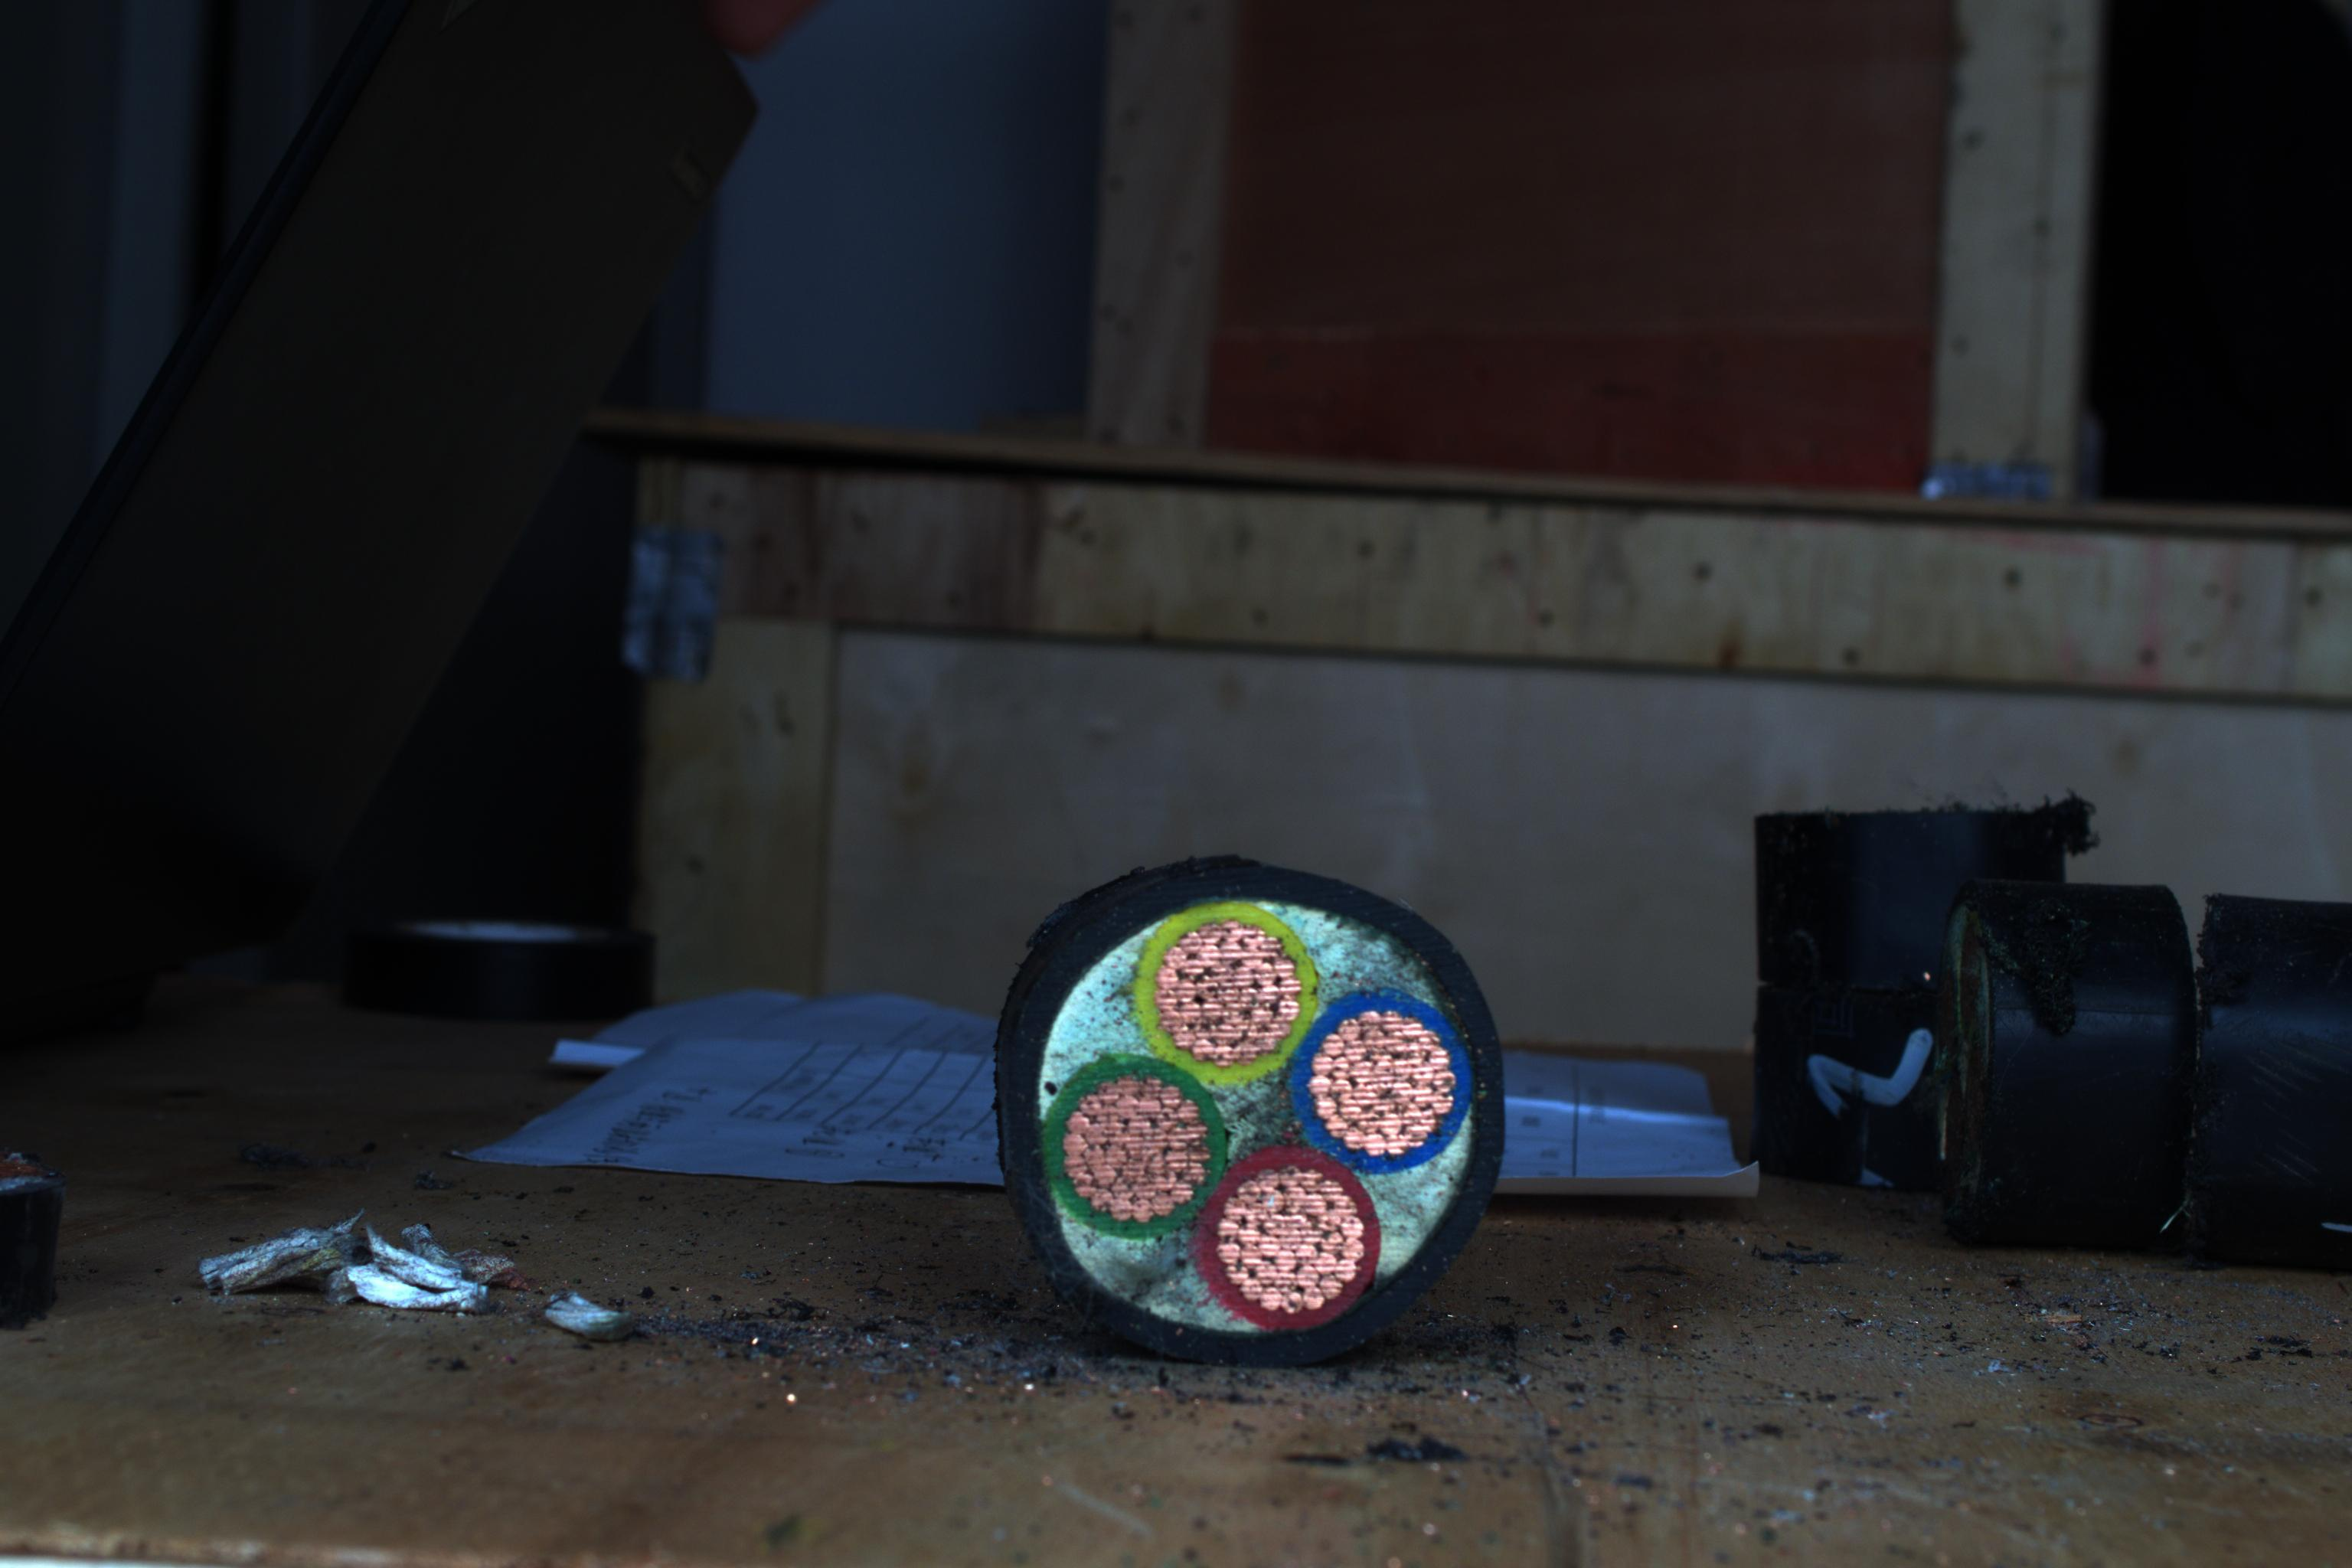YJV_0.6_1kV_4x185: (990, 880, 1514, 1342)
